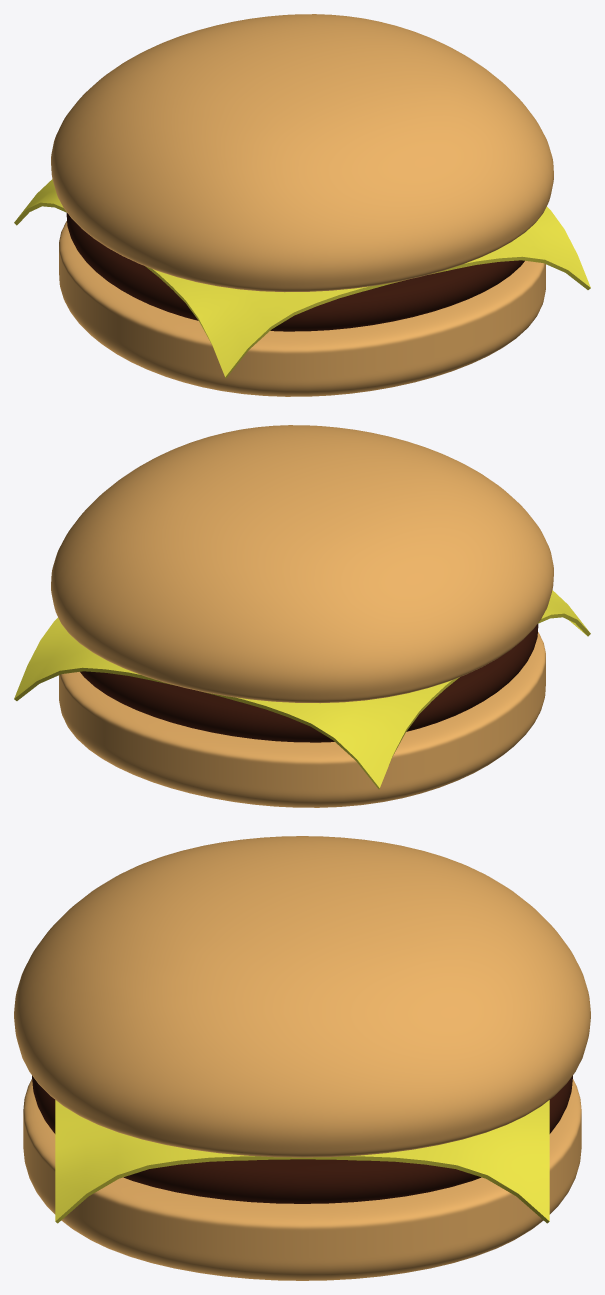
Rendered from hamburger.glb.
3 renders of one model, top to bottom at view 1: azimuth 30°, elevation 25°; view 2: azimuth 150°, elevation 25°; view 3: azimuth 270°, elevation 25°, orthographic. The views are drawn at different scales.
Parts seen in each view (by area): view 1: Cube.002, Cube, Plane, Cube.001; view 2: Cube.002, Cube, Plane, Cube.001; view 3: Cube.002, Cube, Plane, Cube.001.
Boxes of the visible parts, x1,y1,x2,y2 form: Cube.002: (51, 14, 553, 292); Cube: (59, 221, 545, 396); Plane: (14, 179, 590, 378); Cube.001: (66, 213, 524, 331); Cube.002: (51, 425, 553, 703); Cube: (59, 632, 545, 807); Plane: (14, 590, 590, 789); Cube.001: (80, 624, 538, 742); Cube.002: (14, 836, 590, 1157); Cube: (23, 1079, 581, 1280); Plane: (55, 1100, 549, 1223); Cube.001: (32, 1075, 572, 1203).
Size of the model in its own units: 9.42 by 5.55 by 9.42.
